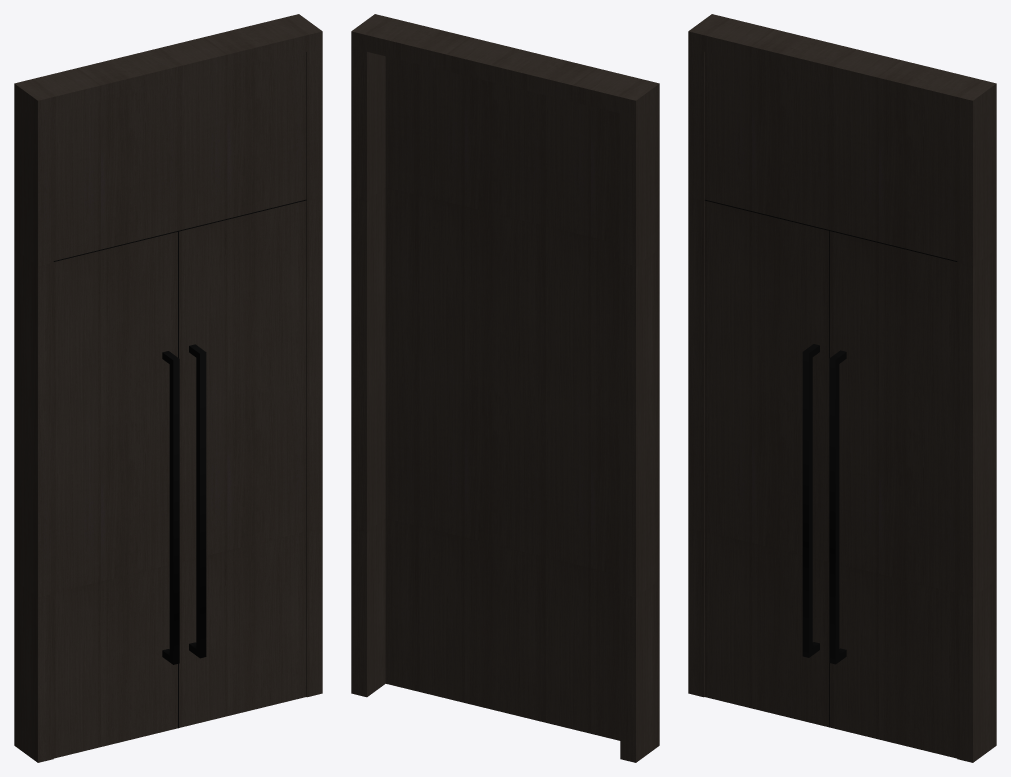
Rendered from left_door.gltf.
The picture shows the model from 3 angles, left to right: view 1: azimuth 30°, elevation 25°; view 2: azimuth 150°, elevation 25°; view 3: azimuth 330°, elevation 25°; orthographic projection.
Parts seen in each view (by area): view 1: left_door_box, left_door_bordar, left_door_handle_2, left_door_handle_1; view 2: left_door_box, left_door_bordar; view 3: left_door_box, left_door_bordar, left_door_handle_2, left_door_handle_1.
Boxes of the visible parts, x1,y1,x2,y2 form: left_door_box: [53, 52, 306, 758]; left_door_bordar: [14, 14, 322, 762]; left_door_handle_2: [189, 344, 206, 658]; left_door_handle_1: [162, 351, 179, 664]; left_door_box: [385, 56, 620, 740]; left_door_bordar: [351, 14, 659, 762]; left_door_box: [704, 52, 957, 758]; left_door_bordar: [688, 14, 996, 762]; left_door_handle_2: [829, 350, 846, 664]; left_door_handle_1: [802, 344, 819, 657].
Size of the model in its own units: 1.8 by 4 by 0.3742.
4 materials, 2 textured.
